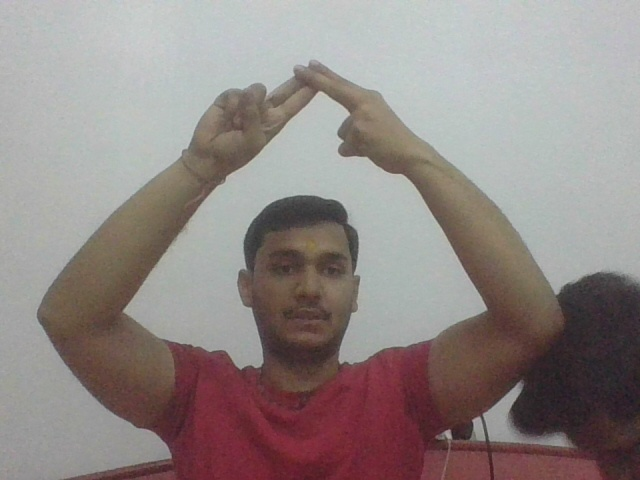F: (195, 53, 406, 172)
